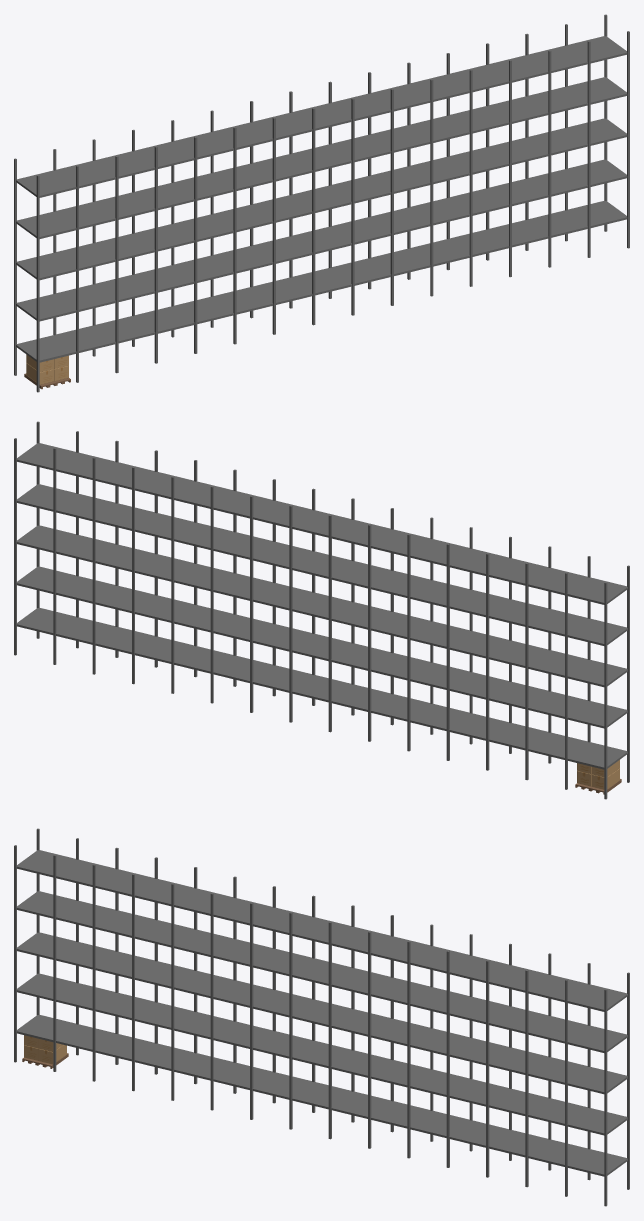
Rendered from werehouse.fbx.
The picture shows the model from 3 angles, top to bottom: view 1: azimuth 30°, elevation 25°; view 2: azimuth 150°, elevation 25°; view 3: azimuth 330°, elevation 25°; orthographic projection.
Parts seen in each view (by area): view 1: pole, cardboard; view 2: pole, cardboard; view 3: pole, cardboard.
Boxes of the visible parts, x1=… form: pole: x1=14, y1=14, x2=629, y2=392; cardboard: x1=26, y1=354, x2=68, y2=384; pole: x1=14, y1=421, x2=629, y2=799; cardboard: x1=577, y1=760, x2=619, y2=789; pole: x1=14, y1=828, x2=629, y2=1206; cardboard: x1=24, y1=1035, x2=66, y2=1064.
Bounding box in the file's own units: 6020 × 2100 × 420.
Materials: 3 (1 with a texture image).
